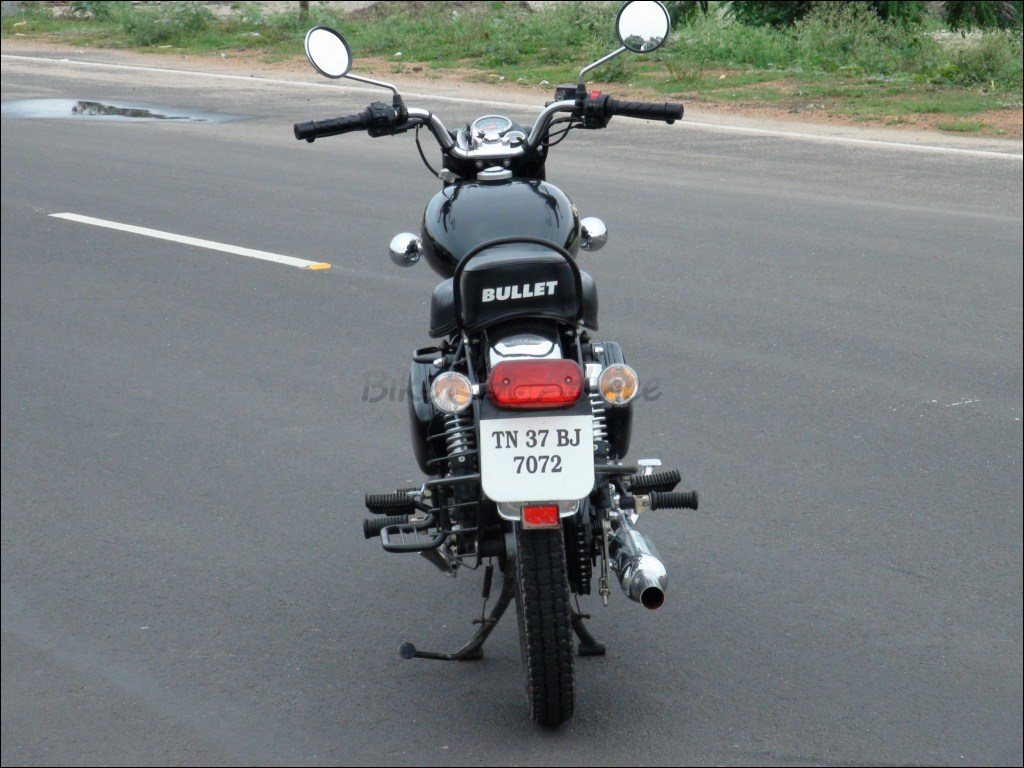number_plate: (471, 411, 603, 505)
